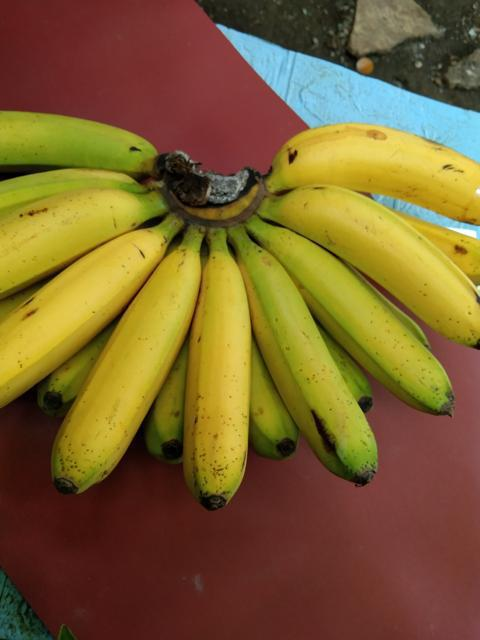freshripe: (241, 242, 382, 495), (53, 250, 194, 493), (288, 168, 479, 338), (288, 225, 457, 416), (174, 238, 266, 497), (272, 118, 479, 223), (0, 180, 142, 305)
